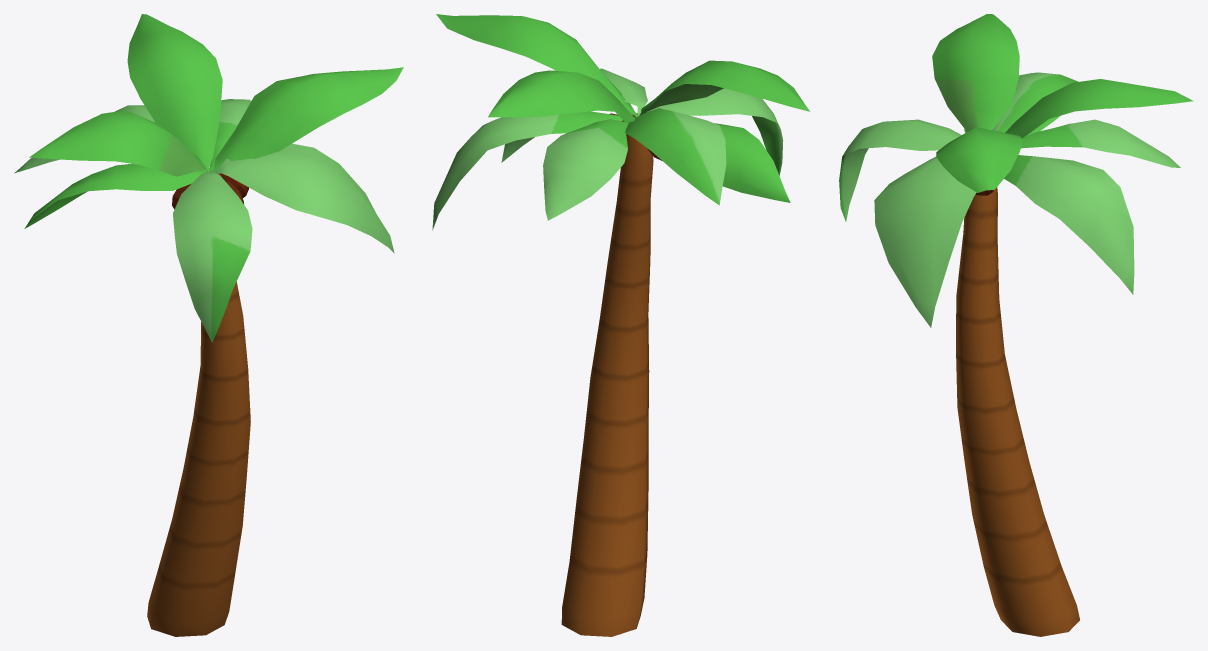
Rendered from tree final t.glb.
3 views of the same model, side by side, from view 1: azimuth 30°, elevation 25°; view 2: azimuth 150°, elevation 25°; view 3: azimuth 270°, elevation 25° (orthographic). The views are drawn at different scales.
Visible parts, largest first — view 1: polySurface75; view 2: polySurface75; view 3: polySurface75.
Boxes of the visible parts, box(x1,y1,x2,y2) form: polySurface75: box(14, 14, 403, 636); polySurface75: box(432, 14, 810, 636); polySurface75: box(839, 14, 1193, 636).
Size of the model in its own units: 0.1261 by 0.1798 by 0.1057.
Materials: 1 (1 with a texture image).
